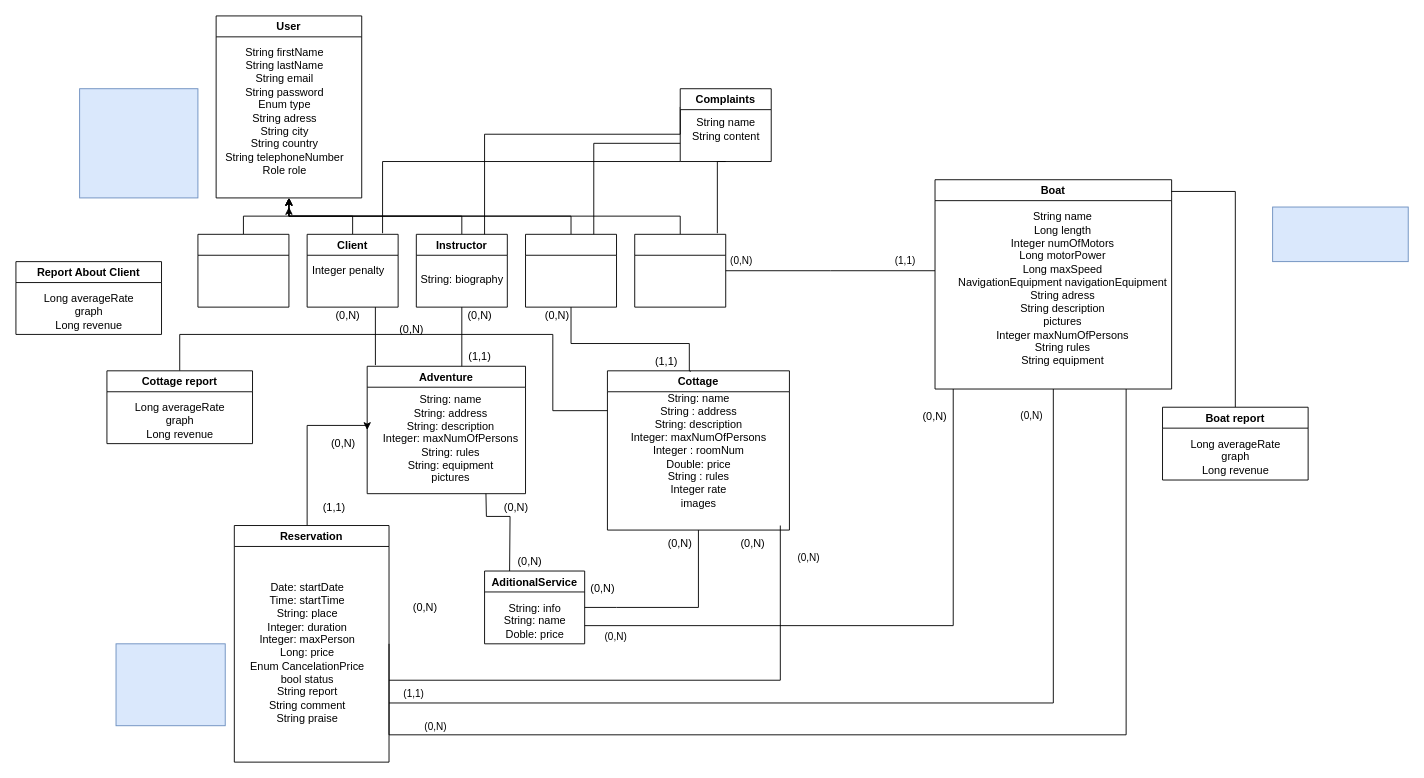
Some shapes in this 1424 by 778 pixel diagram are drawn without their labels. Each missing label, with the centre of its shape:
Admin: (x=243, y=270)
BoatOwner: (x=680, y=270)
CancelationPrice : free precentage: (x=170, y=684)
CottageOwner: (x=571, y=270)
NavigationEquipment: GPS: (x=1340, y=234)
Role: admin client instructor cottageOvner boatOvner: (x=138, y=143)
